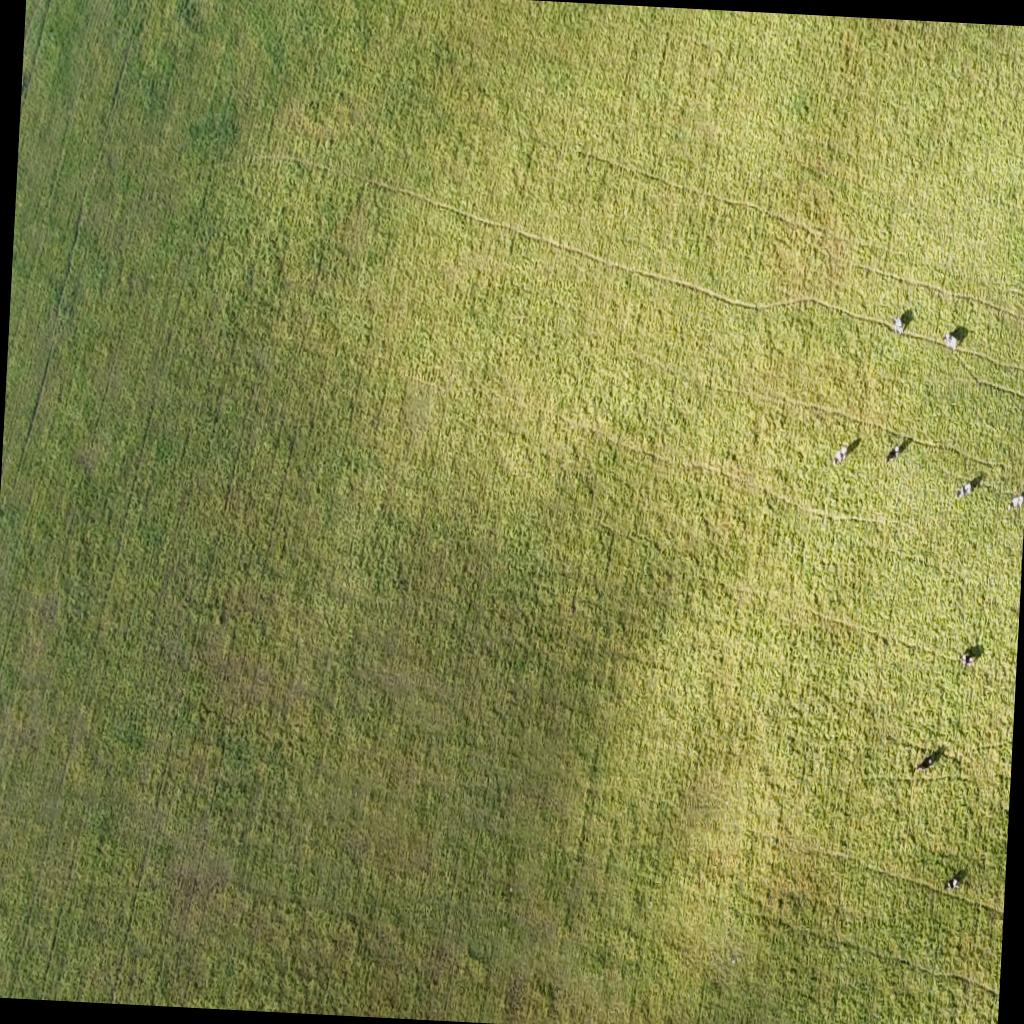cow: (843, 436, 860, 462), (957, 479, 977, 500), (914, 754, 934, 774), (968, 474, 984, 498), (886, 443, 901, 463), (946, 874, 962, 892), (942, 330, 958, 348), (834, 446, 848, 465), (959, 652, 975, 668), (892, 315, 904, 335), (1010, 492, 1024, 509), (898, 440, 910, 457), (21, 76, 27, 100)
